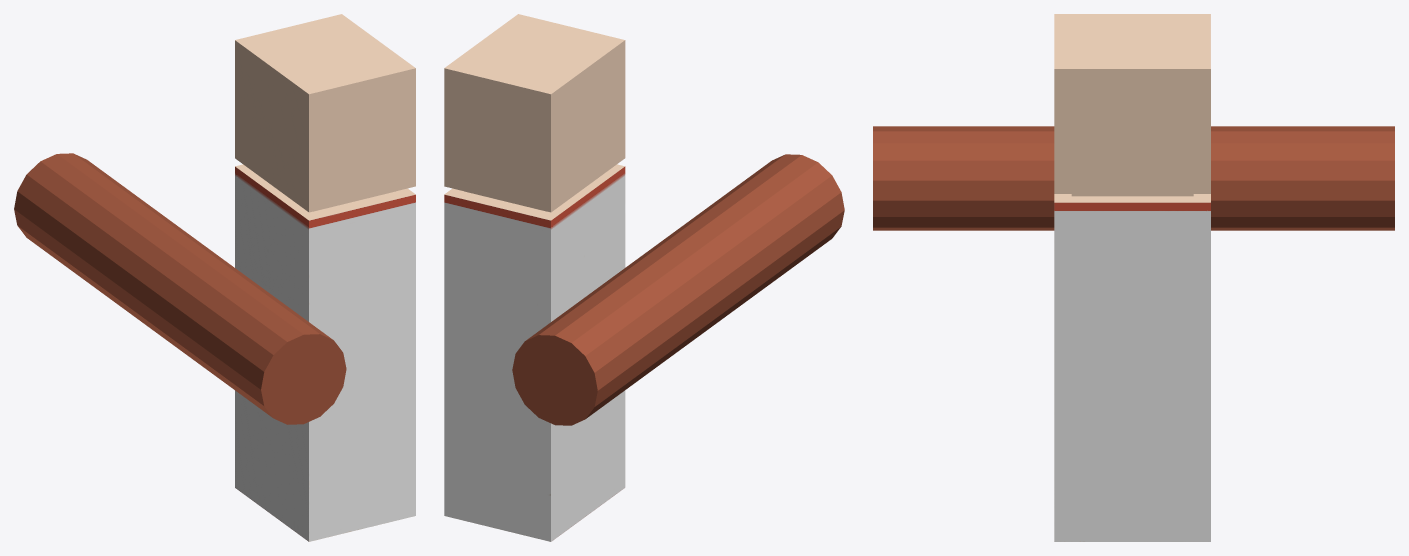
File: timberWorker.fbx
The picture shows the model from 3 angles, left to right: view 1: azimuth 30°, elevation 25°; view 2: azimuth 150°, elevation 25°; view 3: azimuth 270°, elevation 25°; orthographic projection. The views are drawn at different scales.
Parts seen in each view (by area): view 1: Cube, Cylinder; view 2: Cube, Cylinder; view 3: Cube, Cylinder.
Boxes of the visible parts, bbox=[...] form: Cube: bbox=[235, 14, 415, 541]; Cylinder: bbox=[14, 153, 346, 424]; Cube: bbox=[444, 14, 625, 541]; Cylinder: bbox=[512, 154, 844, 425]; Cube: bbox=[1054, 14, 1210, 541]; Cylinder: bbox=[873, 126, 1394, 230].
Bounding box in the file's own units: 56.28 × 100 × 100.
